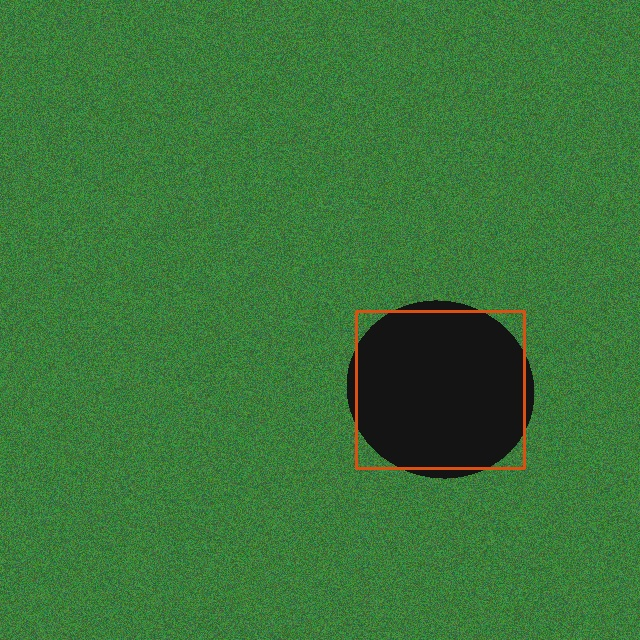blister beetle: (346, 301, 534, 478)
